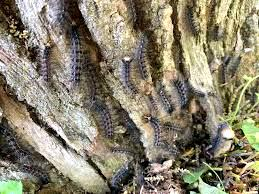Caterpillar: (61, 23, 89, 86), (114, 53, 141, 100), (0, 124, 32, 160), (91, 102, 115, 142), (39, 37, 57, 88), (136, 34, 154, 84), (186, 2, 206, 41), (18, 162, 53, 184), (110, 160, 137, 188), (144, 111, 162, 149), (210, 120, 227, 157), (186, 76, 209, 98), (157, 81, 174, 109), (175, 80, 189, 111), (215, 59, 230, 87), (109, 144, 138, 157), (147, 90, 161, 115), (162, 120, 187, 134)
